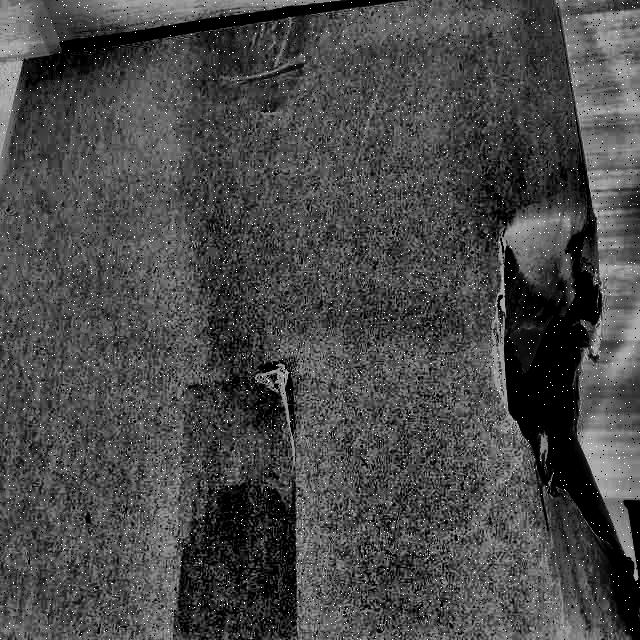box: (1, 1, 640, 640)
hole: (492, 218, 639, 640)
